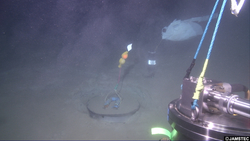plastic bag: (159, 12, 224, 42)
